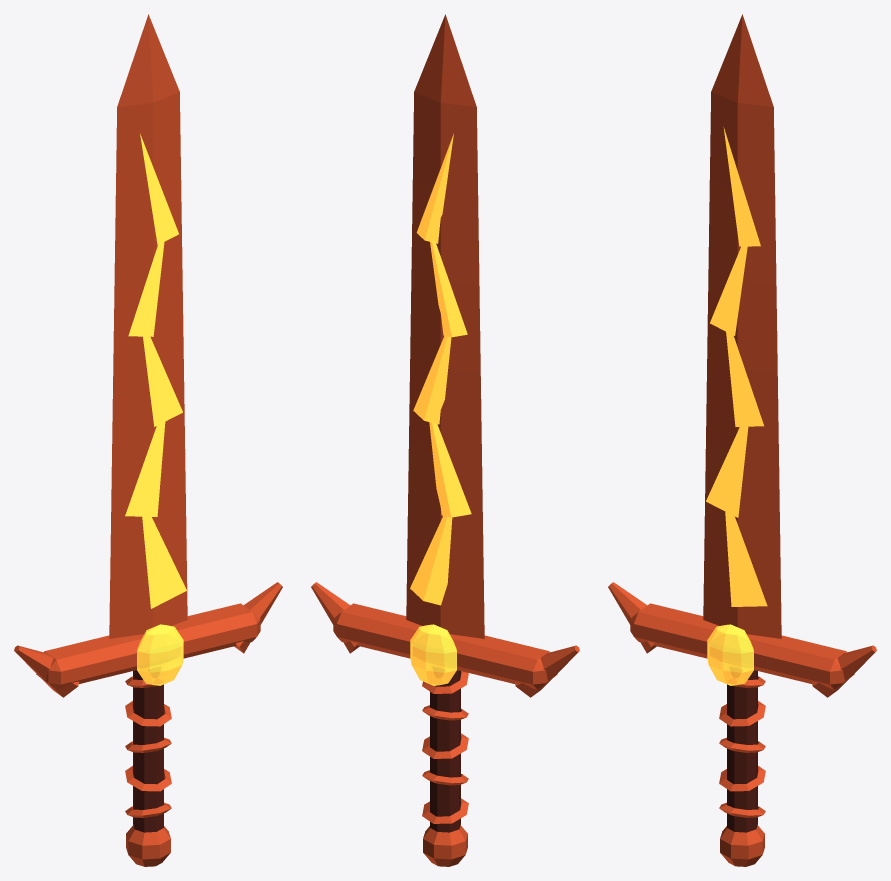
The model's file is weapon_sword_blaze_v01.glb.
The picture shows the model from 3 angles, left to right: view 1: azimuth 30°, elevation 25°; view 2: azimuth 150°, elevation 25°; view 3: azimuth 330°, elevation 25°; orthographic projection.
Parts seen in each view (by area): view 1: weapon_sword_blaze; view 2: weapon_sword_blaze; view 3: weapon_sword_blaze.
Boxes of the visible parts, box(x1,y1,x2,y2) form: weapon_sword_blaze: box(14, 14, 282, 866); weapon_sword_blaze: box(311, 14, 579, 866); weapon_sword_blaze: box(608, 14, 876, 866).
Bounding box in the file's own units: 0.327 × 0.996 × 0.0842.
